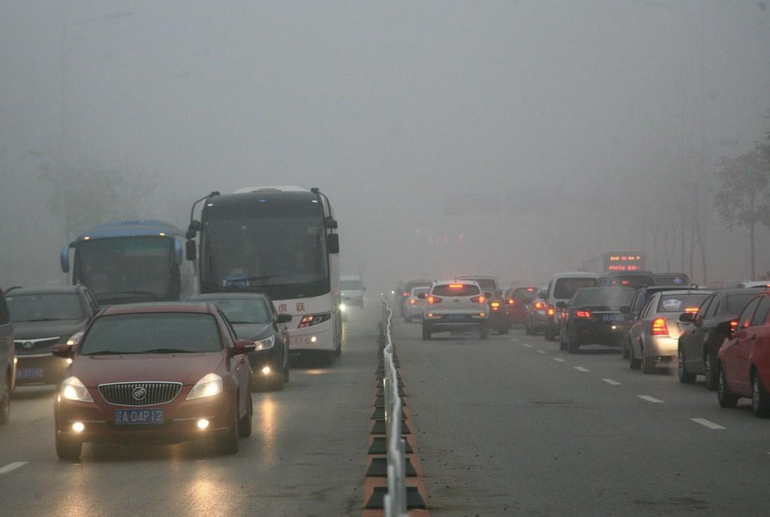bus: (184, 184, 344, 365), (59, 218, 201, 366), (575, 251, 646, 325)
car: (49, 300, 258, 459), (173, 292, 293, 390), (1, 283, 106, 394), (677, 287, 770, 385), (624, 289, 723, 374), (714, 292, 770, 419), (618, 282, 704, 363), (555, 285, 641, 355), (416, 274, 493, 341), (537, 271, 603, 343), (593, 270, 661, 334), (454, 274, 509, 335), (639, 271, 694, 325), (523, 285, 563, 335), (503, 285, 547, 329), (402, 285, 450, 324), (402, 278, 435, 316), (335, 274, 368, 309), (506, 278, 533, 309), (394, 279, 420, 309)
